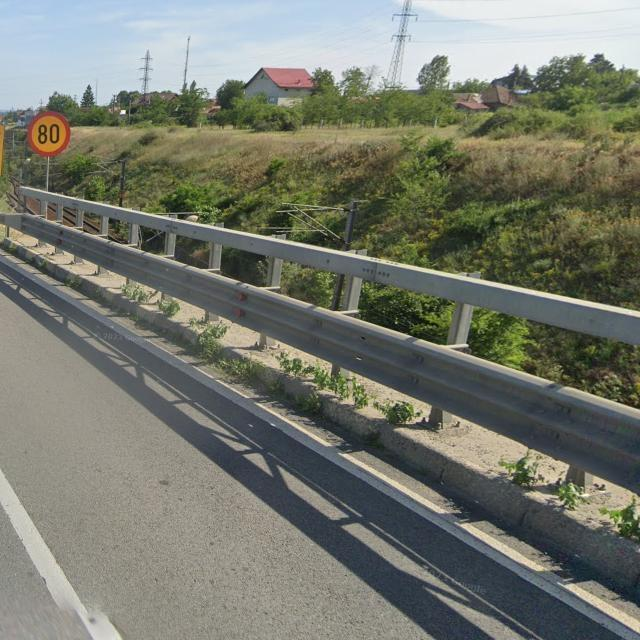forb_speed_over_80: (27, 112, 70, 158)
